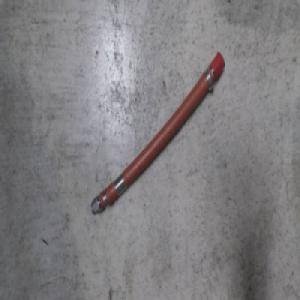Hose: (89, 50, 227, 218)
